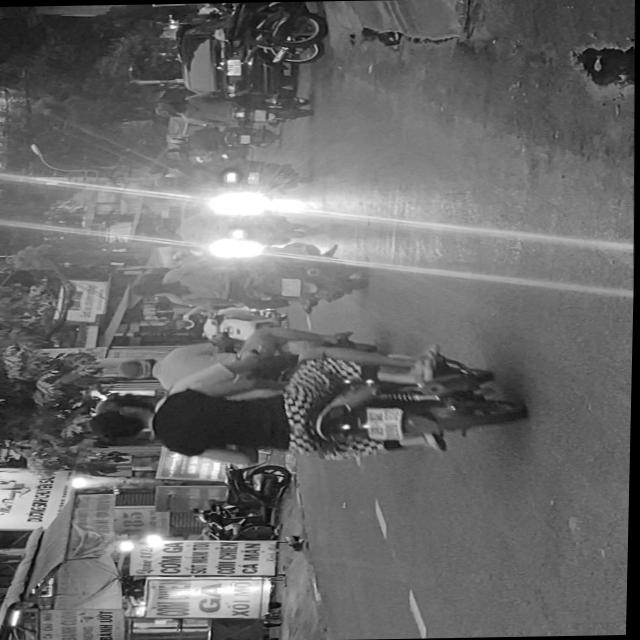helmet: (93, 392, 159, 416), (118, 357, 157, 380)
licenseplate: (83, 325, 531, 469), (114, 324, 394, 397)
motorcyclist: (89, 403, 158, 442)
nohelmet: (366, 407, 403, 439)
